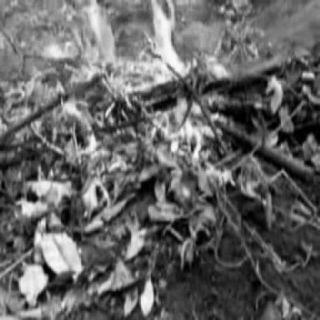Fire: (17, 6, 233, 187)
